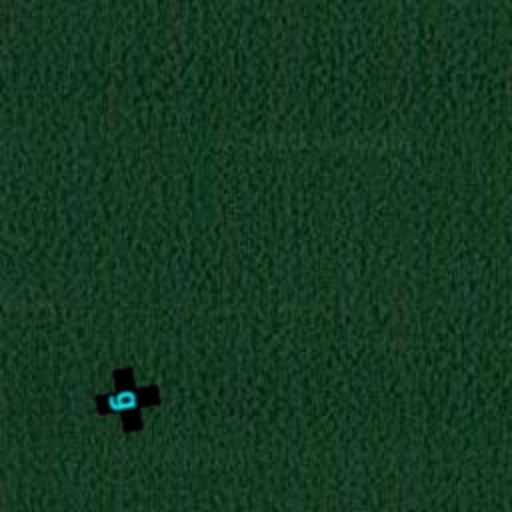cross: (88, 360, 168, 440)
